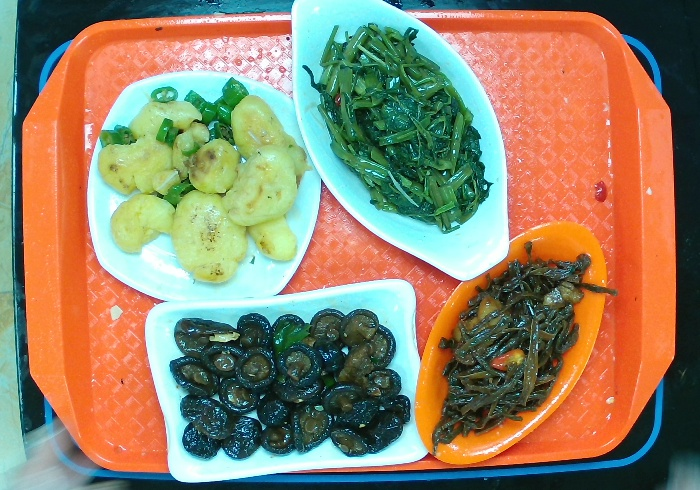RJxy-Ju_Huang_Tuo_Yuan: (406, 214, 615, 469)
RJxy-Si_Fang_Ao_Bian_Wan: (138, 274, 435, 487)
RJxy-Si_Fang_Die: (78, 62, 328, 309)
RJxy-Yu_Pan: (278, 1, 517, 292)
